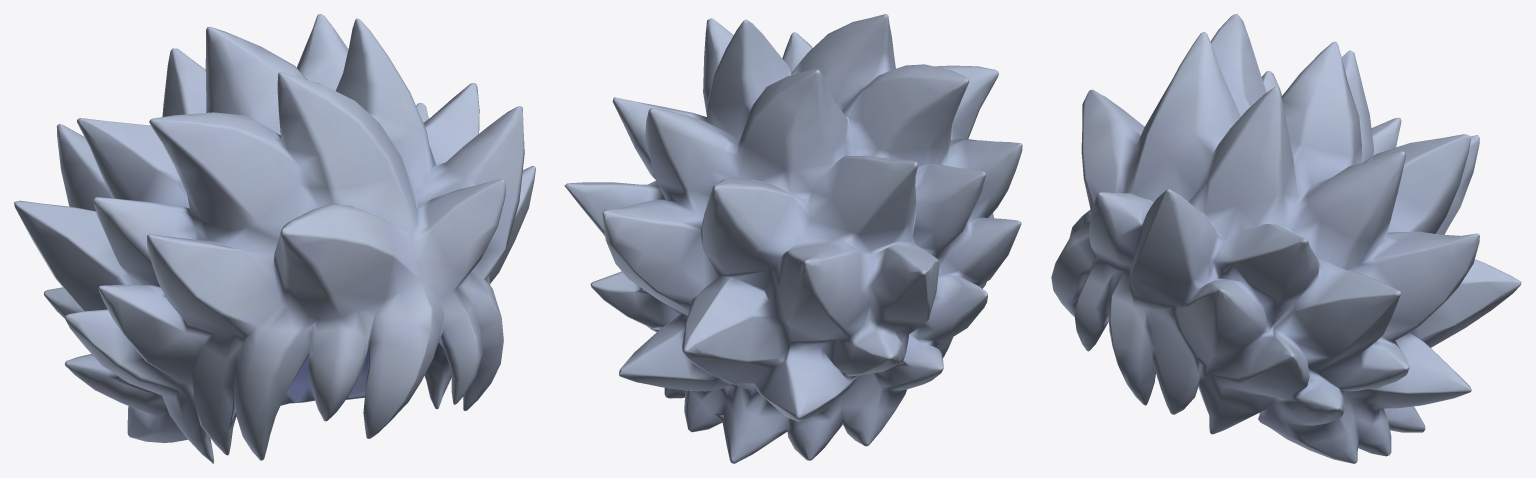
The model's file is hair_spiky.glb.
The picture shows the model from 3 angles, left to right: view 1: azimuth 30°, elevation 25°; view 2: azimuth 150°, elevation 25°; view 3: azimuth 270°, elevation 25°; orthographic projection. The views are drawn at different scales.
Visible parts, largest first — view 1: geometry_0; view 2: geometry_0; view 3: geometry_0.
Part boxes in pixels (bbox=[...]): geometry_0: bbox=[14, 14, 535, 463]; geometry_0: bbox=[564, 14, 1022, 463]; geometry_0: bbox=[1051, 14, 1521, 463].
Size of the model in its own units: 0.894 by 0.8511 by 0.9575.
1 material, 1 textured.
